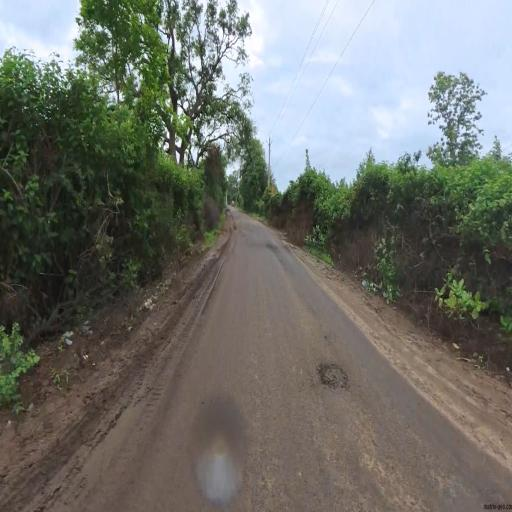pothole: (300, 329, 370, 416)
